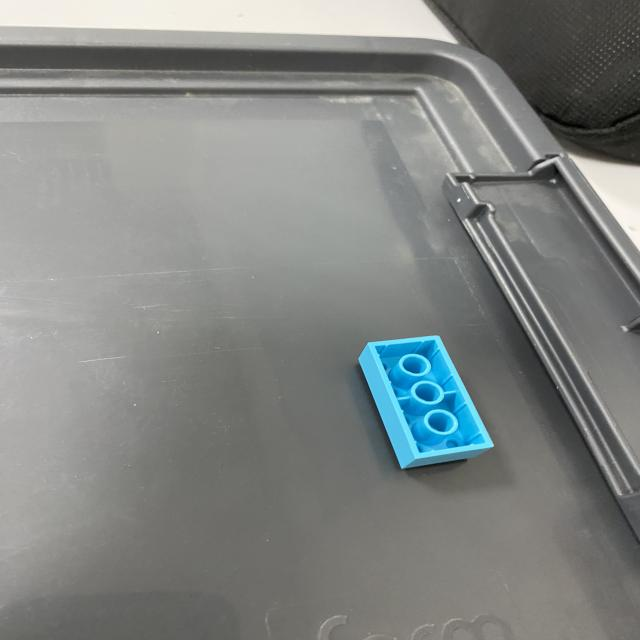C4x2x1: (359, 333, 495, 469)
